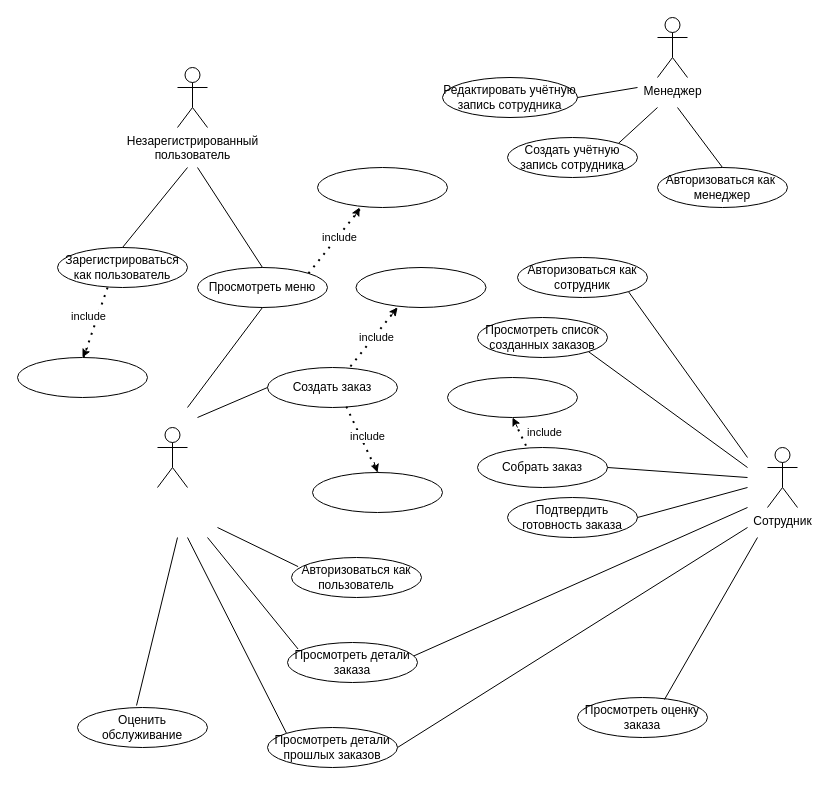
Image size: 829x785. Some labels were removed from this diagram. The box of each missing label's shape, as (x1, y1, x2, y2) in pixels:
Выбрать ресторан: (316, 166, 448, 208)
Зарегистрированный пользователь: (156, 426, 188, 488)
Создать логин: (16, 356, 148, 398)
Указать адрес: (312, 472, 442, 512)
Указать блюда: (355, 266, 486, 308)
Указать собранные блюда: (446, 376, 578, 418)
